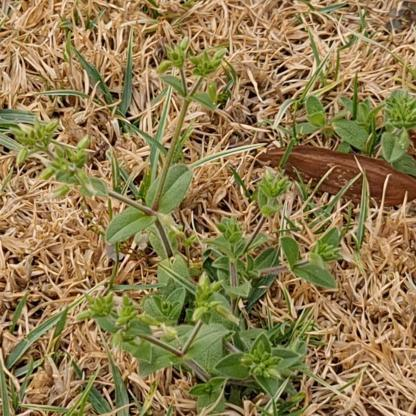Weeds: (8, 38, 339, 415), (294, 84, 415, 178)
